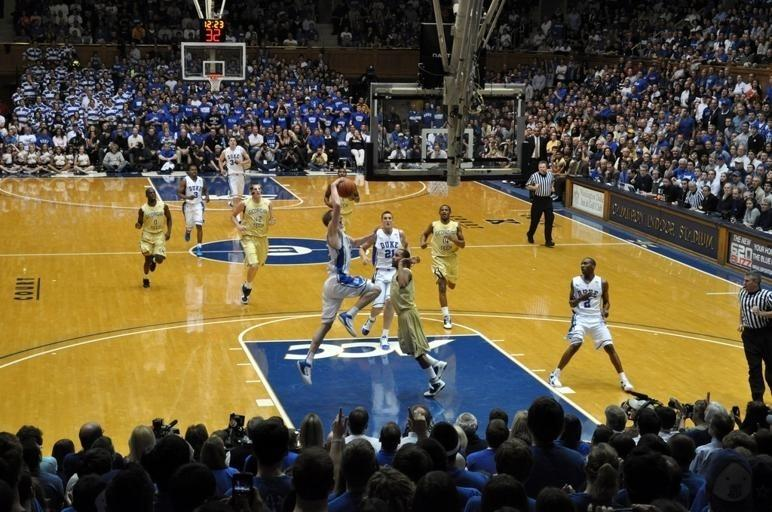basketball-player: (296, 163, 384, 384), (548, 256, 634, 392), (385, 247, 450, 400), (228, 165, 291, 308), (355, 203, 410, 352), (420, 198, 473, 331), (123, 177, 179, 289), (212, 125, 263, 224), (174, 153, 214, 257)
